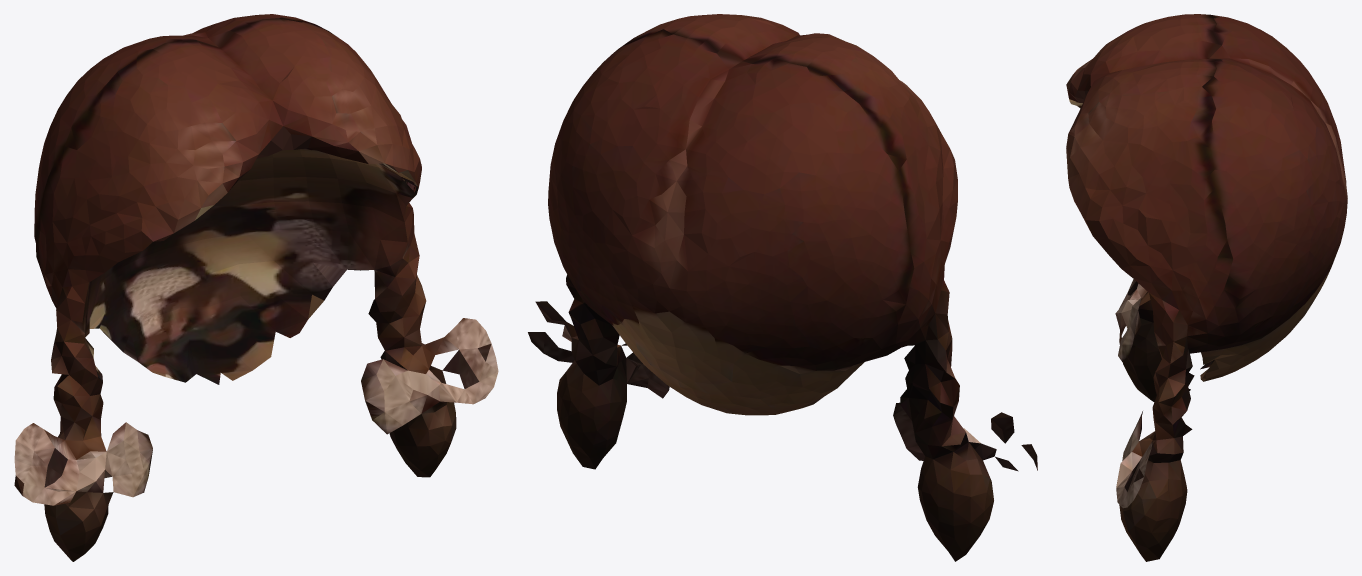
File: hairstyle_100.glb
The picture shows the model from 3 angles, left to right: view 1: azimuth 30°, elevation 25°; view 2: azimuth 150°, elevation 25°; view 3: azimuth 270°, elevation 25°; orthographic projection. The views are drawn at different scales.
Parts seen in each view (by area): view 1: geometry_0_100; view 2: geometry_0_100; view 3: geometry_0_100.
Boxes of the visible parts, left/top/right/bottom form: geometry_0_100: left=14, top=14, right=498, bottom=561; geometry_0_100: left=528, top=14, right=1037, bottom=561; geometry_0_100: left=1066, top=14, right=1347, bottom=561.
Bounding box in the file's own units: 1.41 × 1.3 × 0.7585.
1 material, 1 textured.
